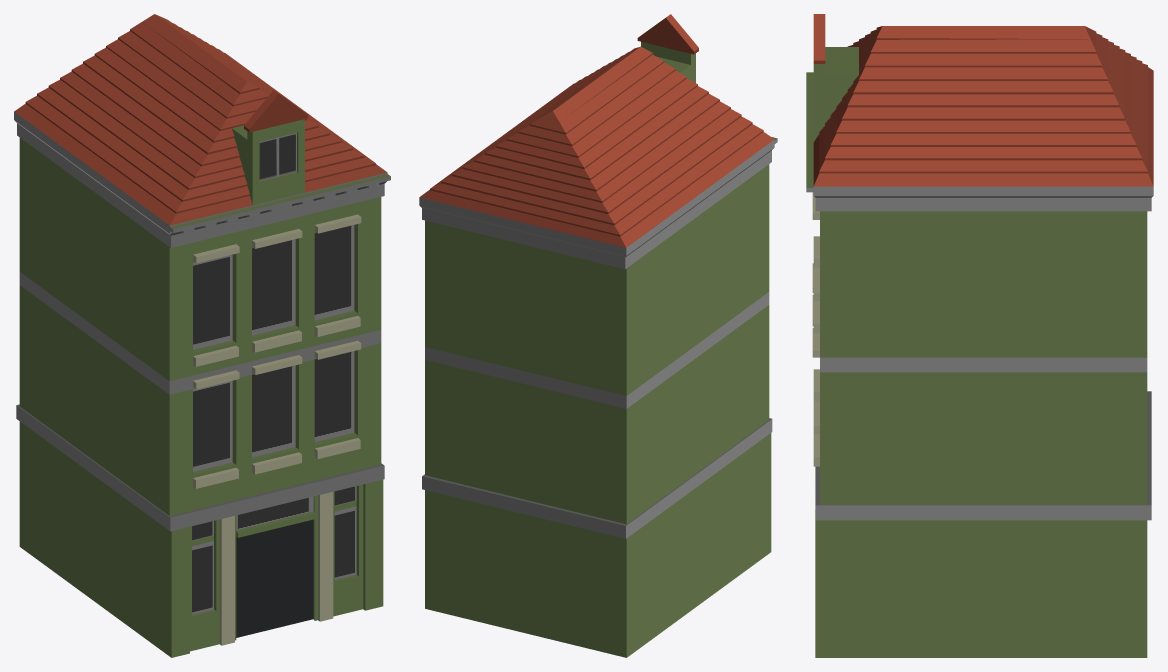
File: SA_Bld_OfficeOld_Clean_03.gltf
The picture shows the model from 3 angles, left to right: view 1: azimuth 30°, elevation 25°; view 2: azimuth 150°, elevation 25°; view 3: azimuth 270°, elevation 25°; orthographic projection. The views are drawn at different scales.
Visible parts, largest first — view 1: SA_Bld_OfficeOld_Clean_03; view 2: SA_Bld_OfficeOld_Clean_03; view 3: SA_Bld_OfficeOld_Clean_03.
Part boxes in pixels (x1=…): SA_Bld_OfficeOld_Clean_03: x1=14, y1=14, x2=390, y2=657; SA_Bld_OfficeOld_Clean_03: x1=419, y1=14, x2=777, y2=657; SA_Bld_OfficeOld_Clean_03: x1=806, y1=14, x2=1153, y2=657.
Bounding box in the file's own units: 8.52 × 20.16 × 10.79.
1 material, 1 textured.
